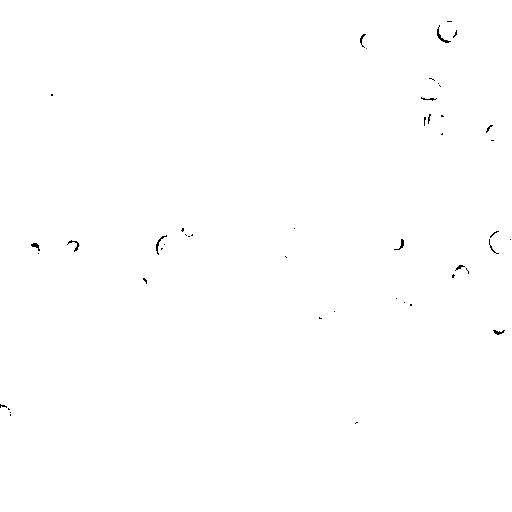micro-algae: (338, 21, 468, 139), (79, 117, 163, 202), (397, 30, 477, 111), (106, 71, 177, 138), (228, 109, 291, 174), (261, 11, 302, 53), (83, 263, 124, 305), (397, 281, 430, 318), (419, 105, 455, 138), (61, 287, 92, 317), (153, 234, 184, 263), (135, 167, 164, 197), (39, 85, 69, 113), (236, 129, 264, 159), (180, 414, 210, 442), (1, 1, 33, 27), (414, 75, 443, 102), (446, 260, 472, 290), (483, 118, 511, 145), (485, 227, 511, 256), (141, 254, 169, 280), (214, 269, 241, 295), (212, 383, 238, 409), (284, 0, 311, 25), (435, 17, 459, 45), (315, 295, 339, 323), (420, 430, 445, 456), (381, 287, 408, 309), (177, 147, 198, 173), (357, 28, 380, 51), (55, 490, 79, 512), (280, 223, 305, 244), (19, 239, 41, 261), (177, 218, 199, 240), (343, 307, 364, 329), (61, 237, 83, 257), (385, 233, 407, 253), (488, 316, 507, 335), (279, 243, 299, 261), (130, 274, 149, 290), (343, 411, 362, 427), (1, 402, 15, 423)
